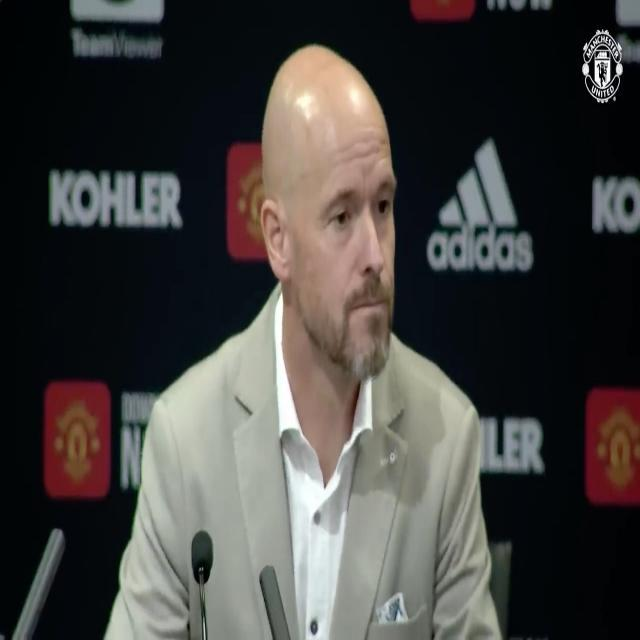Adidas: (424, 137, 533, 274)
Kohler: (50, 170, 182, 230)
TeamViewer: (71, 0, 164, 59)
